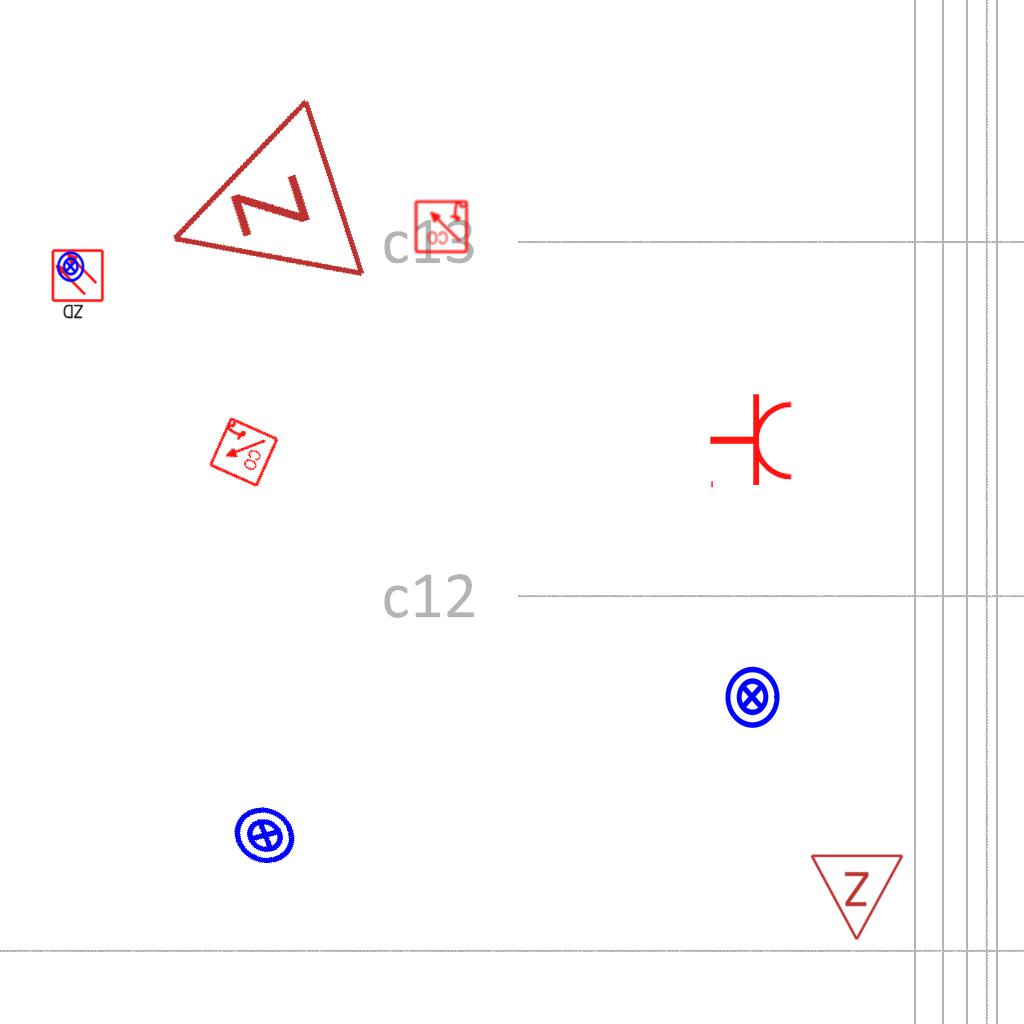ROA_Rauchmelder_optisch_mit_Signalgeber_(Sockelsirene): (206, 415, 280, 489), (413, 198, 469, 254)
Schukosteckdose_einfach: (708, 392, 795, 492)
Taster_beleuchtet: (220, 790, 310, 880), (719, 664, 785, 730), (54, 250, 87, 283)
ZD_Melder_in_Zwischendecke_mit_Revisionsoeffnung_mind_40_x_40_cm: (50, 248, 107, 322)
Zimmersignalleuchte: (130, 90, 382, 340), (809, 847, 907, 947)
